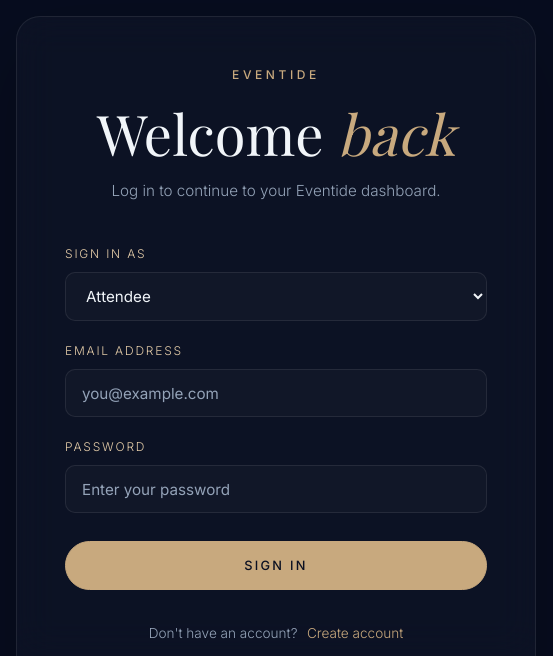
EMS-FR-03 Login failures › invalid credentials show the server message and store nothing
Type "user@test.com" into the field labelled "Email address" at (276,393), box 65,369 -> 487,417
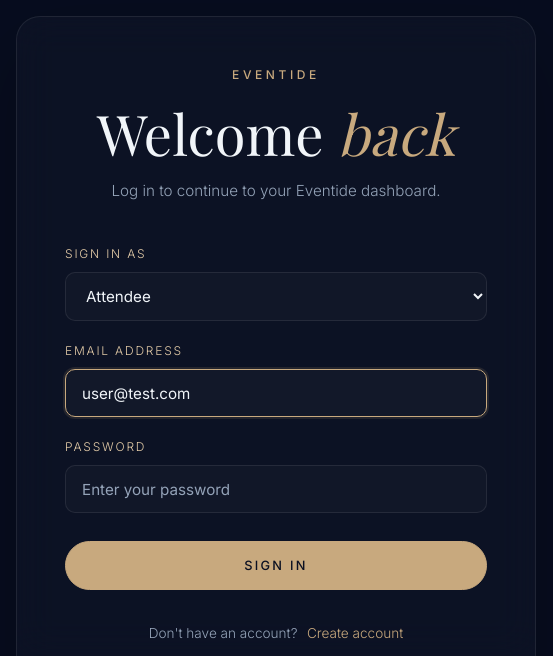
Type "Password123" into the password field labelled "Password" at (276,489), box 65,465 -> 487,513
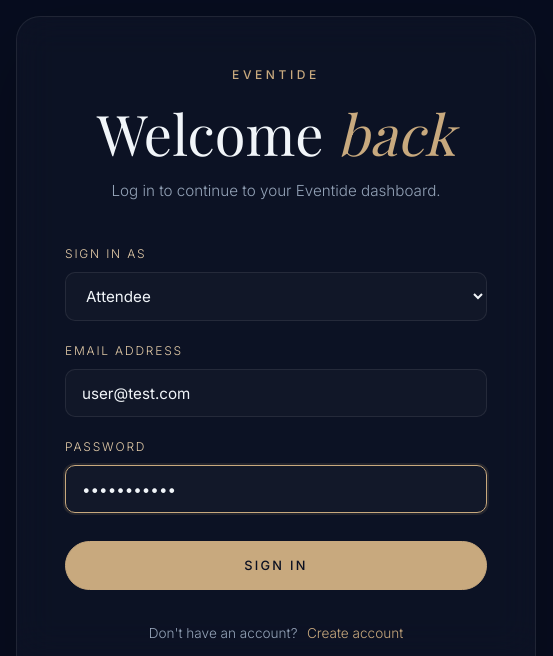
Click the button "Sign in" at (276,566), box 65,541 -> 487,590
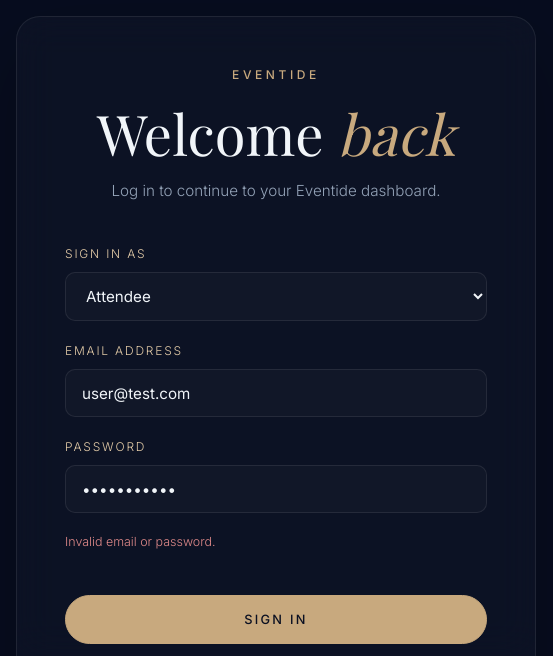
expect the message reads "Invalid email or password.": met, box 65,534 -> 216,549
